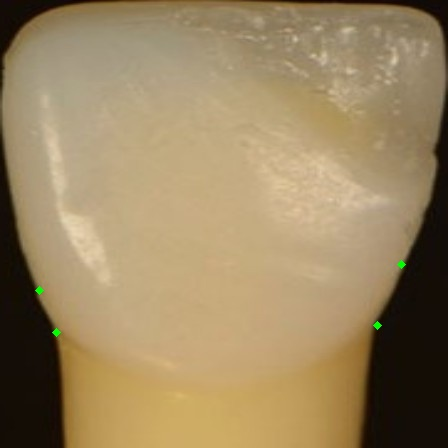coin_1: (377, 325, 397, 345)
coin_2: (401, 264, 421, 284)
coin_3: (56, 332, 76, 352)
coin_4: (39, 290, 59, 310)
